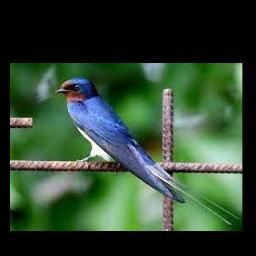Swallow: (55, 78, 240, 225)
